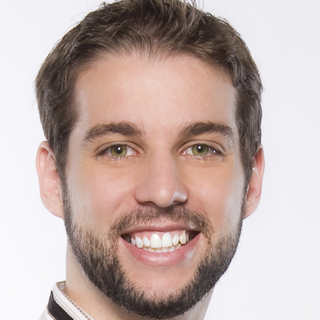eye: (172, 136, 232, 166), (86, 138, 147, 166)
